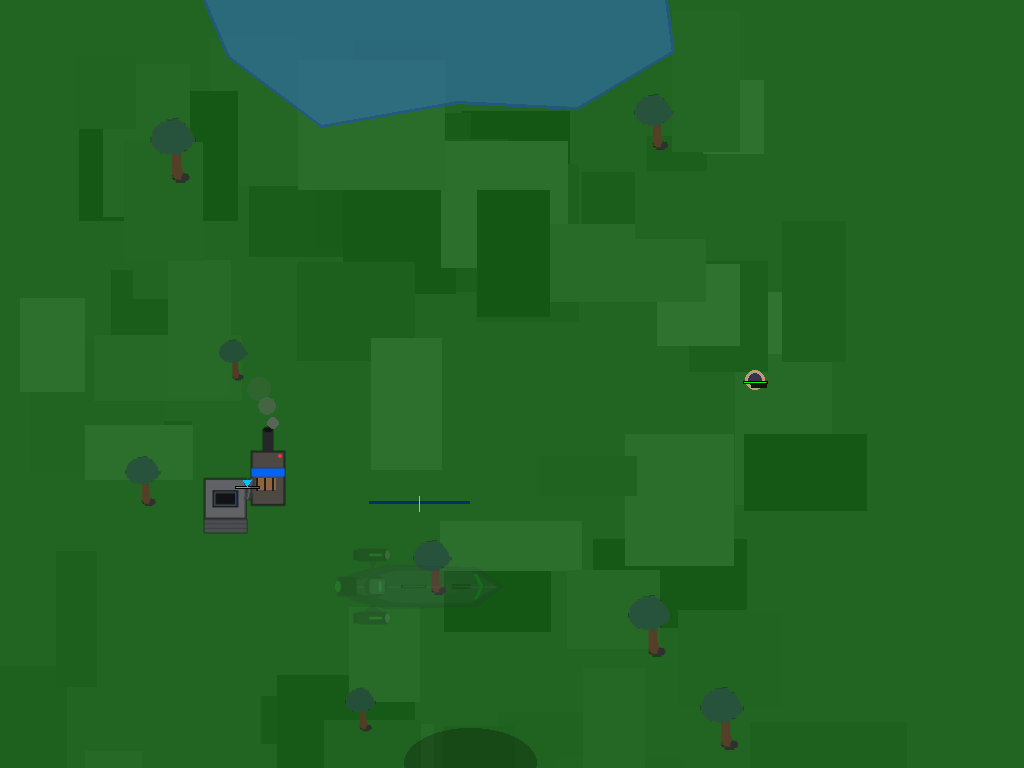KirovAirship: (345, 638, 492, 768)
Lake: (190, 0, 673, 126)
MiningRig: (198, 437, 294, 533)
RocketTrooper: (738, 363, 772, 397)
